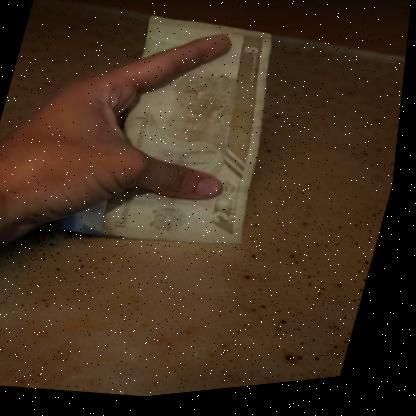five-back-vef: (93, 4, 305, 265)
